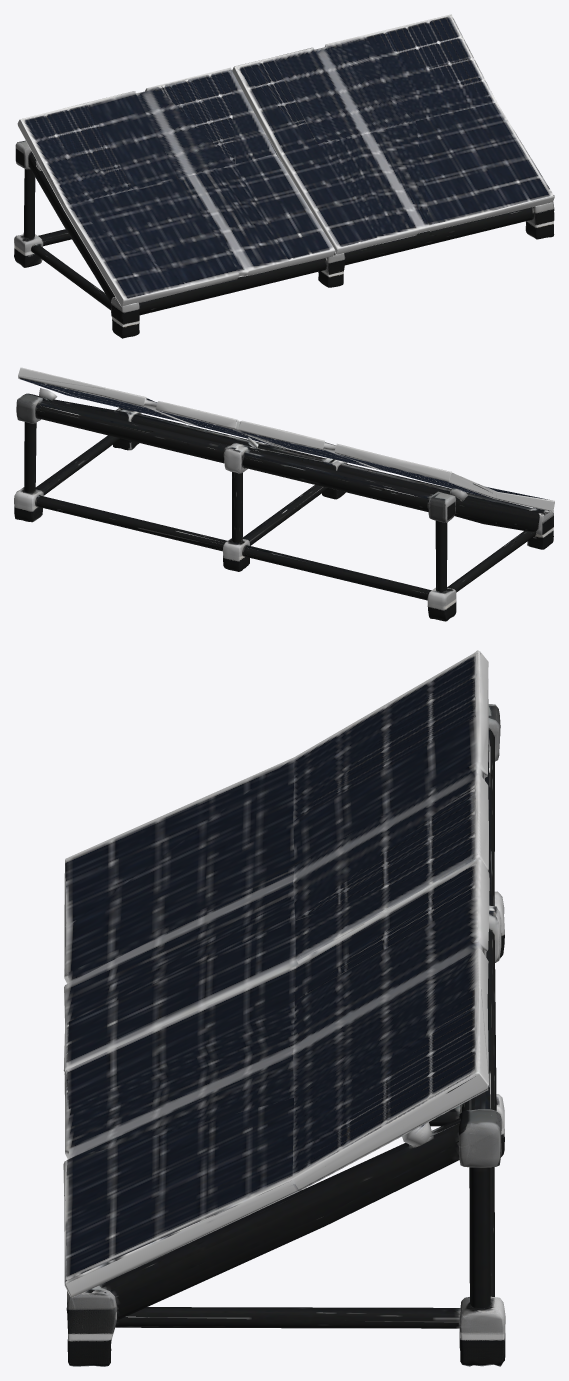
The model's file is solar_rack.glb.
3 views of the same model, one above another, from view 1: azimuth 30°, elevation 25°; view 2: azimuth 150°, elevation 25°; view 3: azimuth 270°, elevation 25° (orthographic). The views are drawn at different scales.
Parts seen in each view (by area): view 1: Mesh_0; view 2: Mesh_0; view 3: Mesh_0.
Boxes of the visible parts, x1,y1,x2,y2 form: Mesh_0: [14, 14, 554, 338]; Mesh_0: [14, 367, 554, 621]; Mesh_0: [63, 650, 505, 1366].
Bounding box in the file's own units: 3.03 × 1 × 1.35.
Materials: 1 (1 with a texture image).
